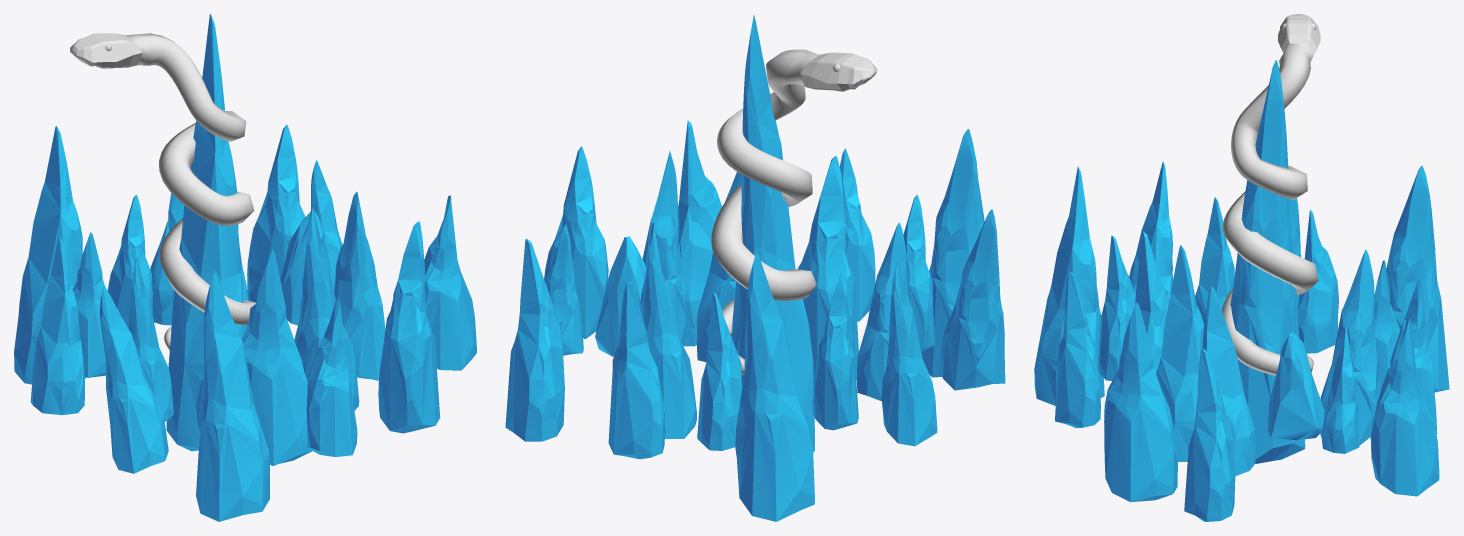
The model's file is hielo.fbx.
The picture shows the model from 3 angles, left to right: view 1: azimuth 30°, elevation 25°; view 2: azimuth 150°, elevation 25°; view 3: azimuth 270°, elevation 25°; orthographic projection. The views are drawn at different scales.
Visible parts, largest first — view 1: SneikBody, Rocks_2.015, Rocks_2.021, Rocks_2.004, Rocks_2.016, Rocks_2.001, Rocks_2.017, Rocks_2.013, Rocks_2.011, Rocks_2.003, Rocks_2.018, Rocks_2.010 (+7 smaller); view 2: Rocks_2.001, SneikBody, Rocks_2.021, Rocks_2.010, Rocks_2.017, Rocks_2.012, Rocks_2.015, Rocks_2.013, Rocks_2.004, Rocks_2.002, Rocks_2.003, Rocks_2.016 (+9 smaller); view 3: Rocks_2.021, SneikBody, Rocks_2.016, Rocks_2.010, Rocks_2.001, Rocks_2.015, Rocks_2.003, Rocks_2.009, Rocks_2.002, Rocks_2.018, Rocks_2.011, Rocks_2.030 (+9 smaller).
Part boxes in pixels (box(x1,y1,x2,y2)): SneikBody: box(70, 33, 255, 350); Rocks_2.015: box(196, 273, 269, 521); Rocks_2.021: box(166, 14, 243, 451); Rocks_2.004: box(241, 249, 312, 465); Rocks_2.016: box(378, 221, 440, 433); Rocks_2.001: box(14, 126, 86, 384); Rocks_2.017: box(100, 284, 168, 473); Rocks_2.013: box(30, 236, 84, 415); Rocks_2.011: box(334, 192, 385, 380); Rocks_2.003: box(424, 195, 476, 370); Rocks_2.018: box(306, 298, 357, 456); Rocks_2.010: box(247, 124, 305, 303); Rocks_2.001: box(735, 250, 814, 521); SneikBody: box(711, 49, 877, 374); Rocks_2.021: box(732, 15, 814, 451); Rocks_2.010: box(505, 238, 564, 441); Rocks_2.017: box(939, 209, 1005, 390); Rocks_2.012: box(608, 280, 665, 459); Rocks_2.015: box(921, 129, 984, 377); Rocks_2.013: box(881, 262, 937, 446); Rocks_2.004: box(798, 156, 858, 378); Rocks_2.002: box(640, 222, 696, 438); Rocks_2.003: box(544, 146, 608, 338); Rocks_2.016: box(678, 120, 722, 346); Rocks_2.021: box(1230, 60, 1305, 463); SneikBody: box(1222, 14, 1320, 375); Rocks_2.016: box(1104, 302, 1177, 502); Rocks_2.010: box(1370, 317, 1439, 496); Rocks_2.001: box(1386, 165, 1449, 392); Rocks_2.015: box(1034, 167, 1104, 405); Rocks_2.003: box(1184, 348, 1235, 521); Rocks_2.009: box(1156, 245, 1203, 461); Rocks_2.002: box(1320, 249, 1379, 445); Rocks_2.018: box(1055, 272, 1100, 428); Rocks_2.011: box(1195, 286, 1255, 476); Rocks_2.030: box(1268, 333, 1324, 440).
Bounding box in the file's own units: 2083 × 2107 × 1940.
